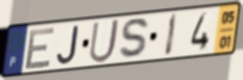4: (189, 11, 211, 52)
E: (23, 26, 57, 72)
I: (163, 13, 179, 58)
J: (56, 24, 81, 66)
S: (118, 17, 152, 61)
U: (87, 17, 122, 65)
